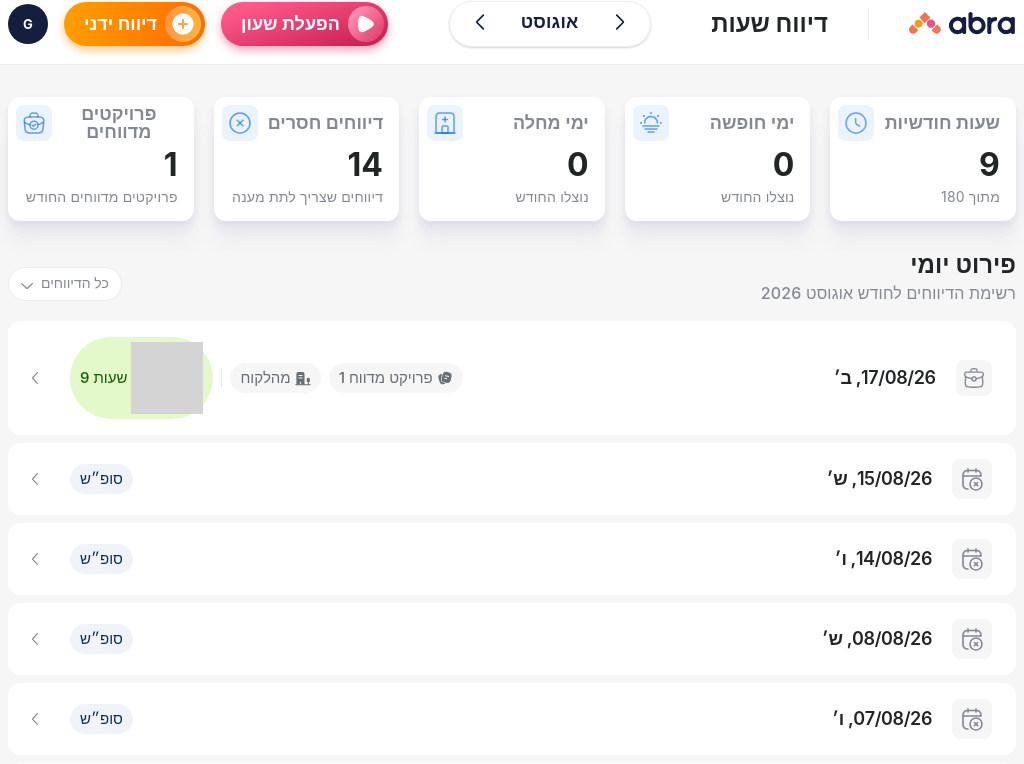
Test: Reports home shell › does not stack project cards when a day is closed and opened again after deleting a card
The image size is (1024, 764).
Click the button "17/08/26, ב׳ 9 שעות מהלקוח 1 פרויקט מדווח" at point(974, 378), box [8,321,1016,435]
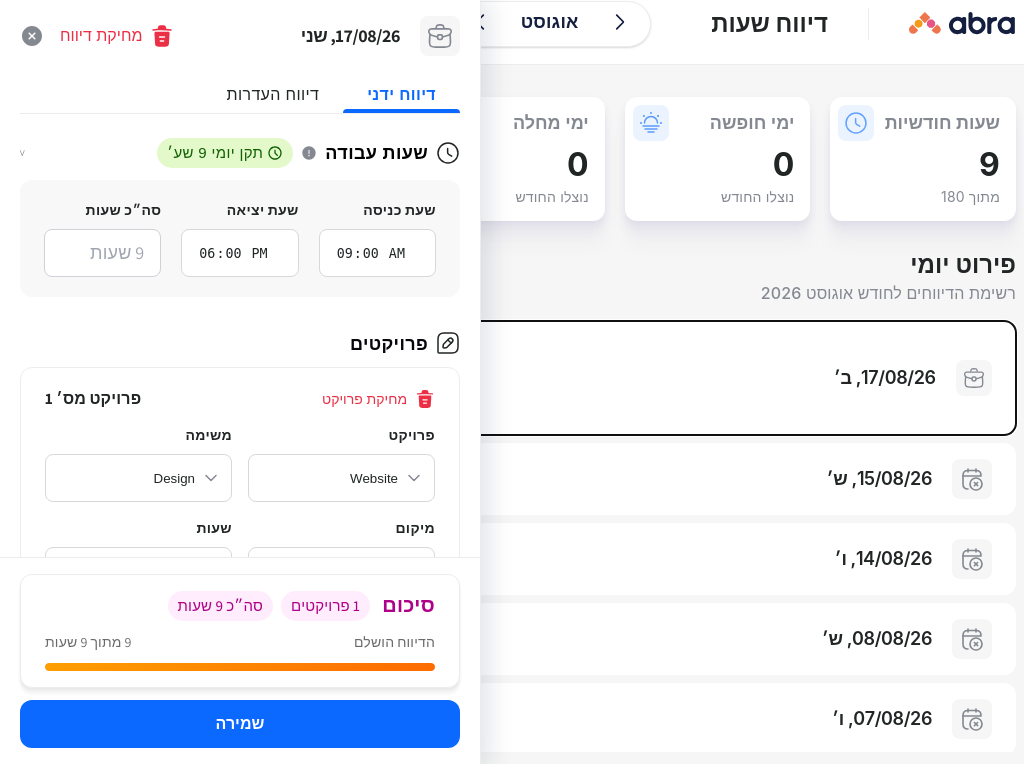
Click the button "מחיקת פרויקט" at point(378, 399), box [322,389,435,409]
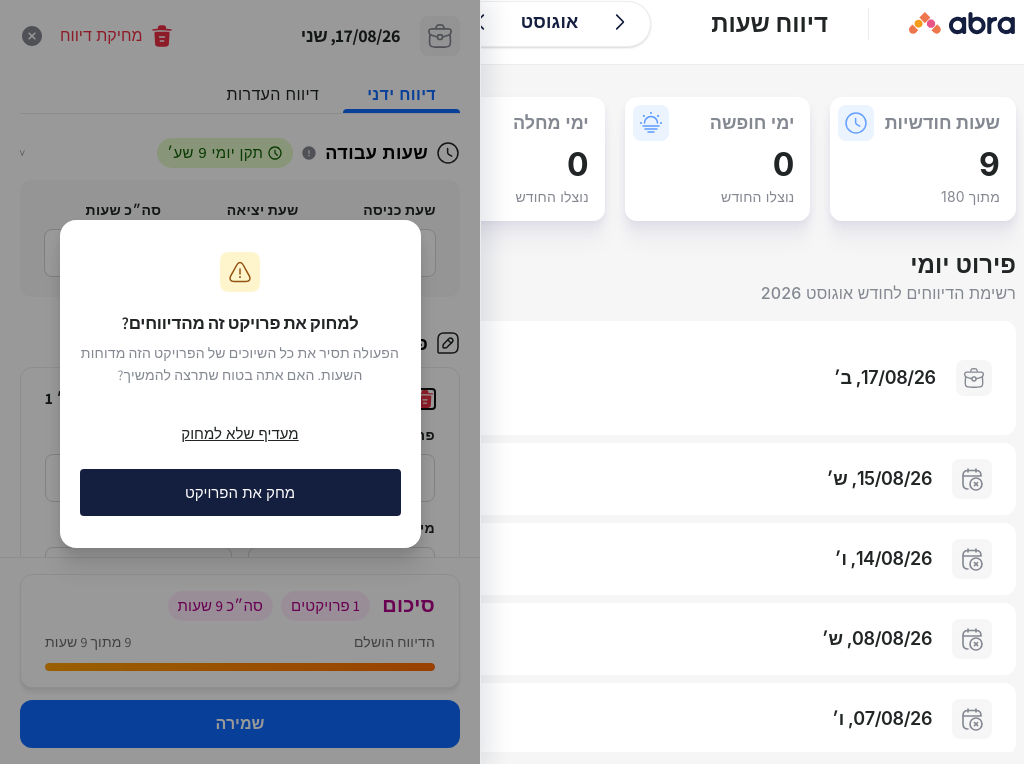
Click the button "מחק את הפרויקט" at point(240, 492), box [80,469,400,516]
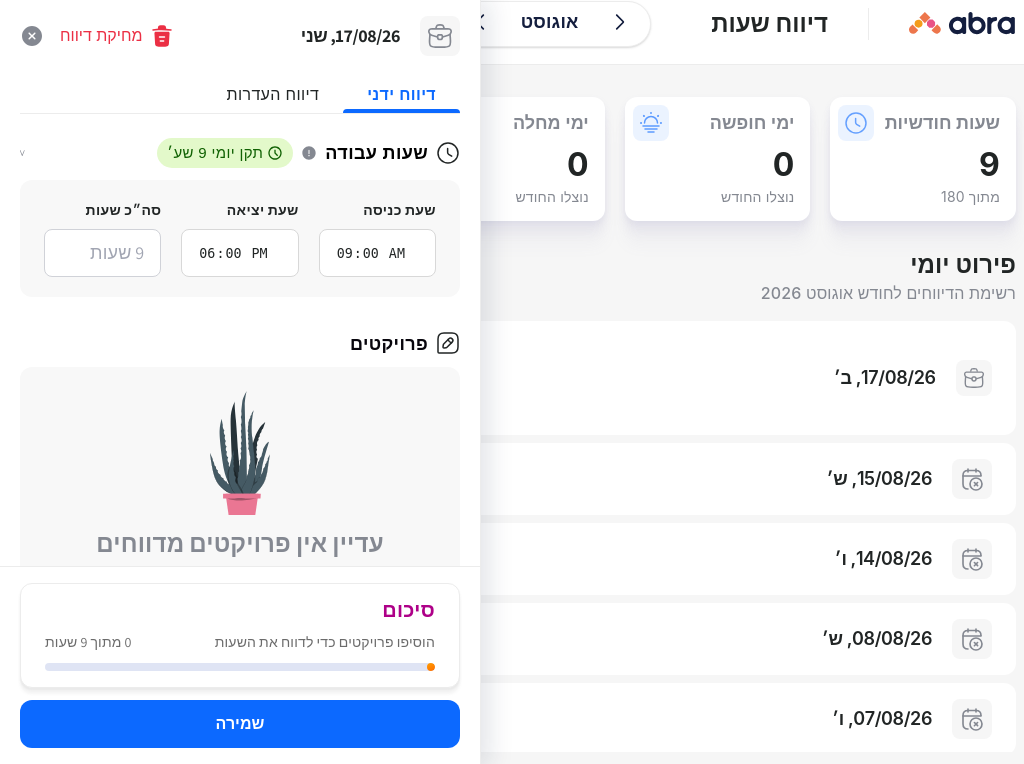
Click the button named "סגירה" at point(32, 36), box [20,24,44,48]
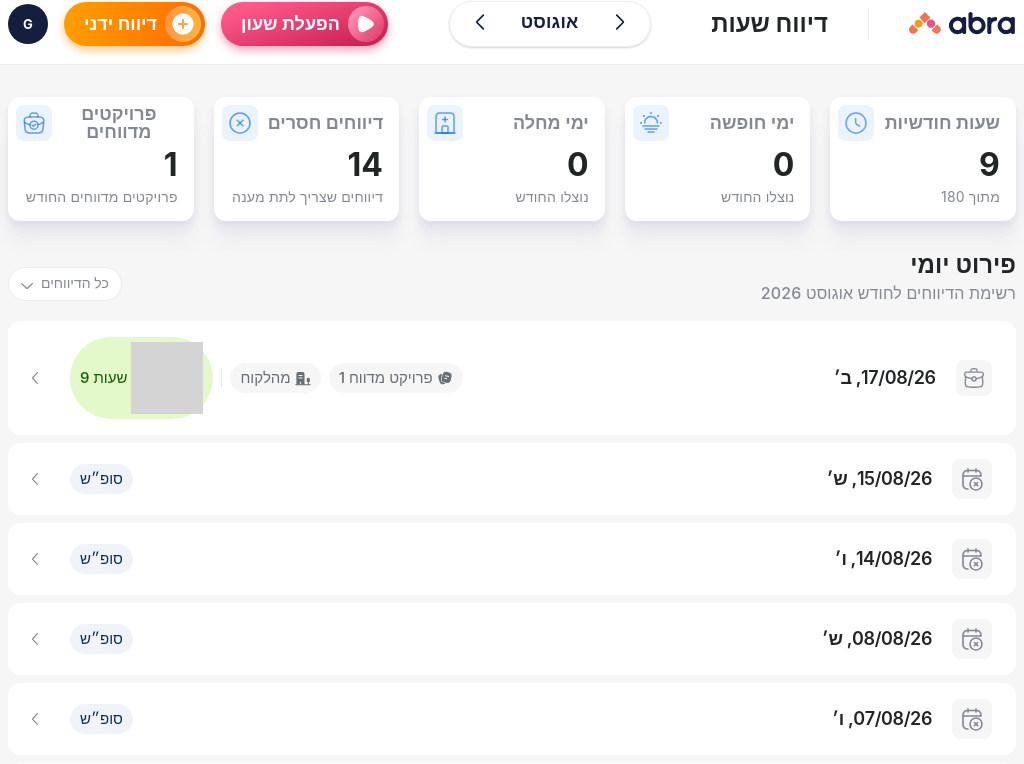
Click the button "17/08/26, ב׳ 9 שעות מהלקוח 1 פרויקט מדווח" at point(974, 378), box [8,321,1016,435]
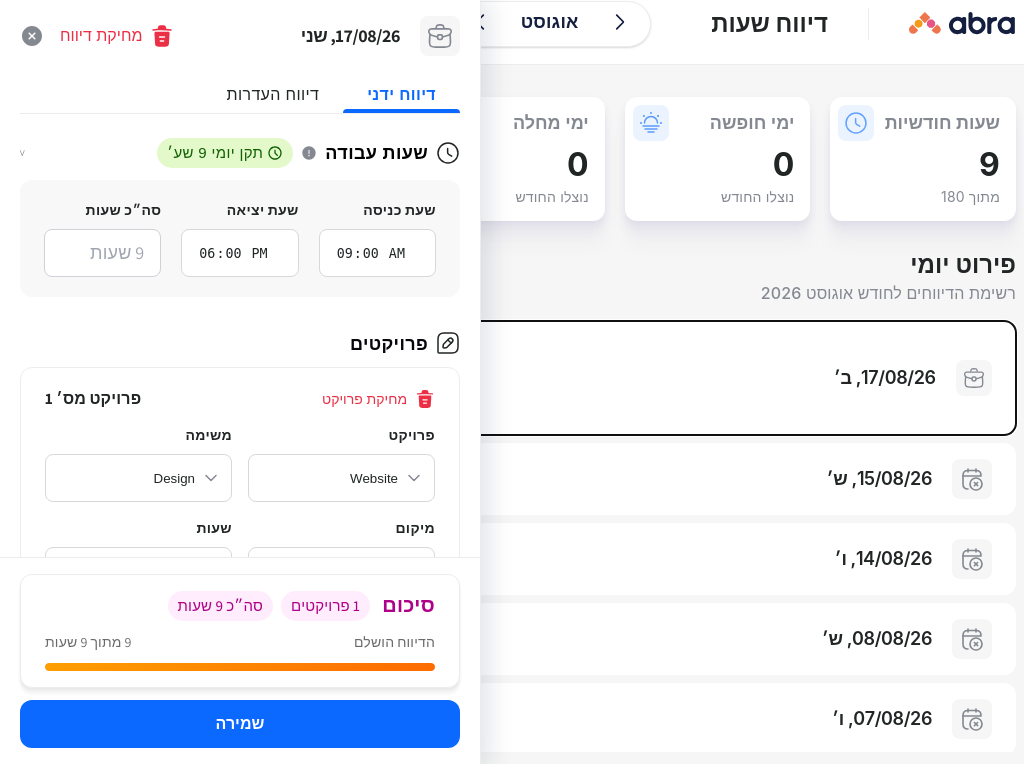
Check: the number of buttons named "פרויקט" is 1, box [248,454,435,502]
Check: the text "סה״כ 9 שעות" is shown, box [168,591,273,621]
